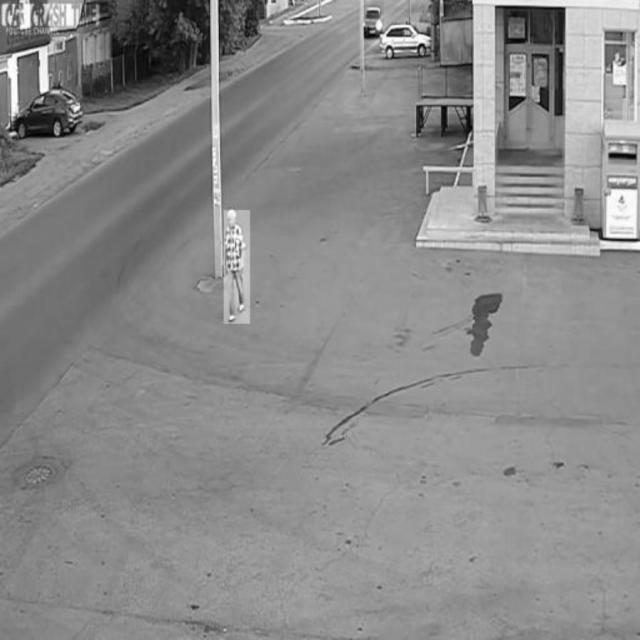person: (224, 210, 250, 323)
vehicle: (18, 89, 85, 141), (379, 23, 434, 59), (363, 2, 383, 39)
